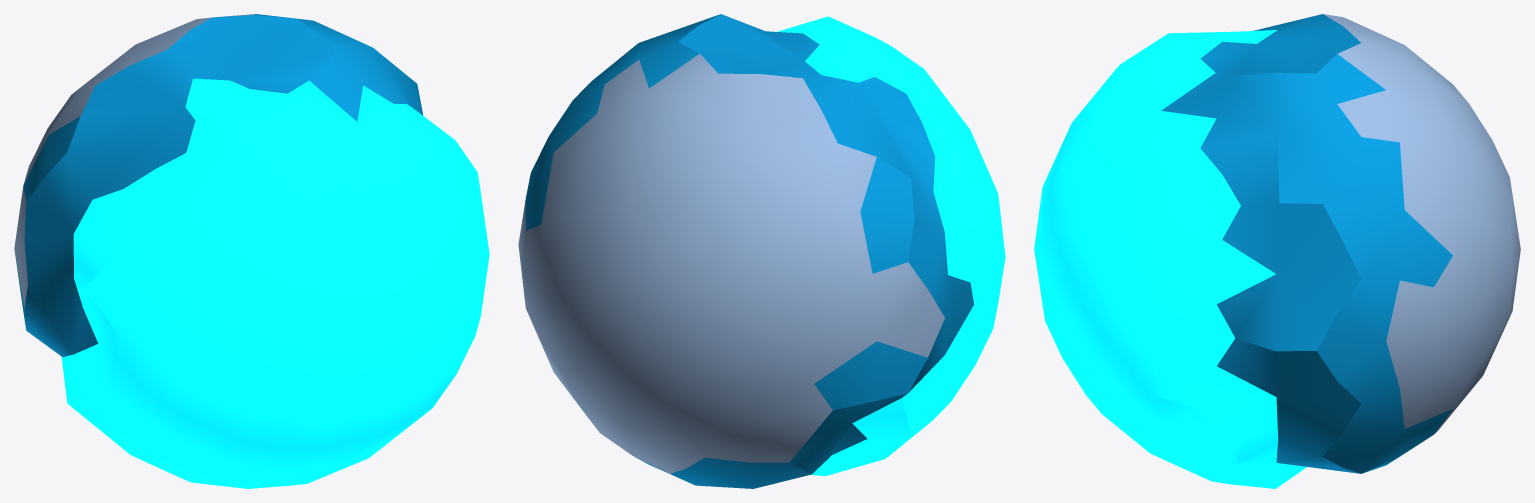
File: CryoBullet.fbx
3 renders of one model, left to right at view 1: azimuth 30°, elevation 25°; view 2: azimuth 150°, elevation 25°; view 3: azimuth 270°, elevation 25°, orthographic. The views are drawn at different scales.
Parts seen in each view (by area): view 1: Bullet; view 2: Bullet; view 3: Bullet.
Part boxes in pixels (x1,y1,x2,y2): Bullet: (14,14,489,488); Bullet: (518,14,1005,488); Bullet: (1034,14,1520,488).
Bounding box in the file's own units: 253 × 251 × 257.
